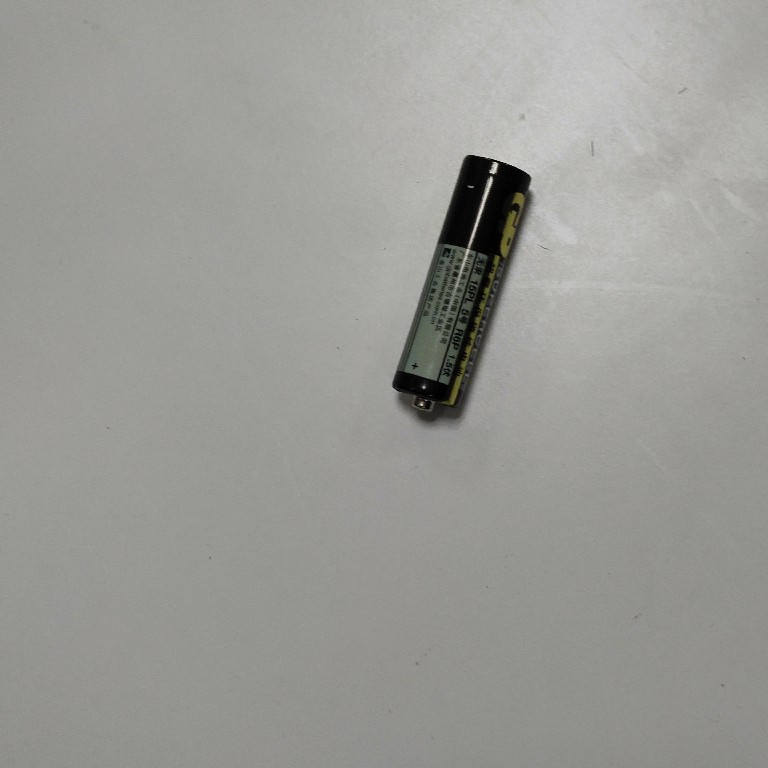charge: (385, 150, 538, 421)
